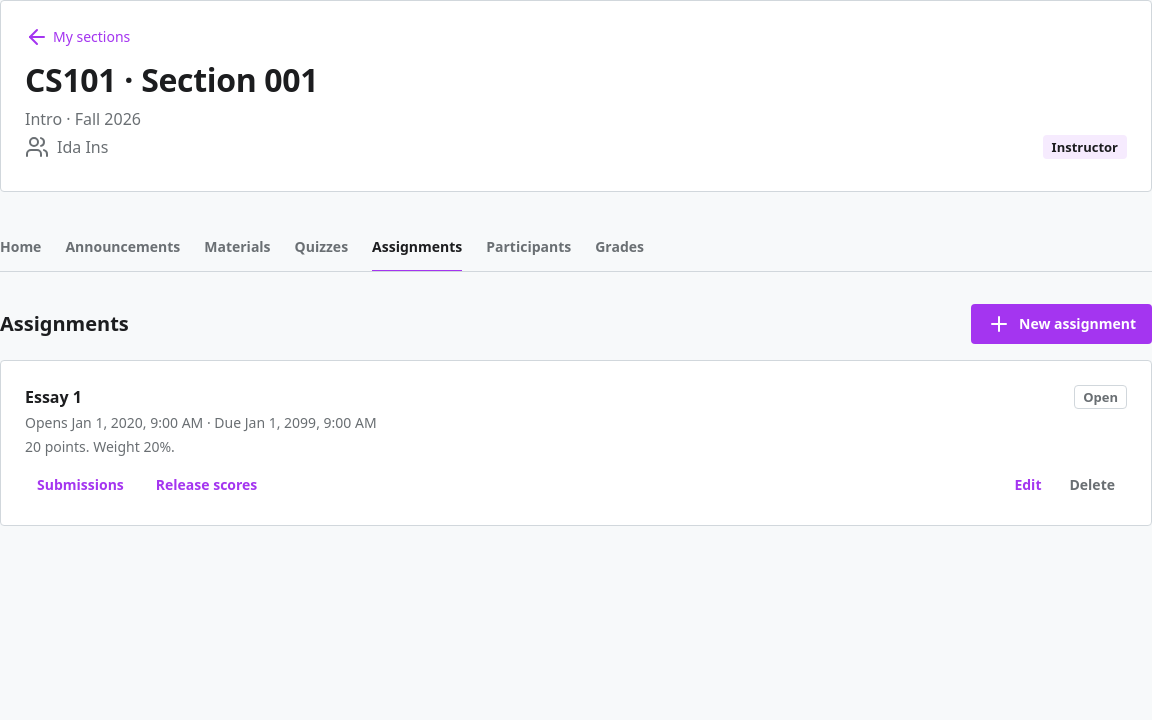
Test case: Release asks first and PATCHes published true
The image size is (1152, 720).
What coordinates should you click on to do the following:
click the button with aria-label "Release scores for Essay 1"
I would click on:
 (207, 485)
Its box is [144,469,269,501].
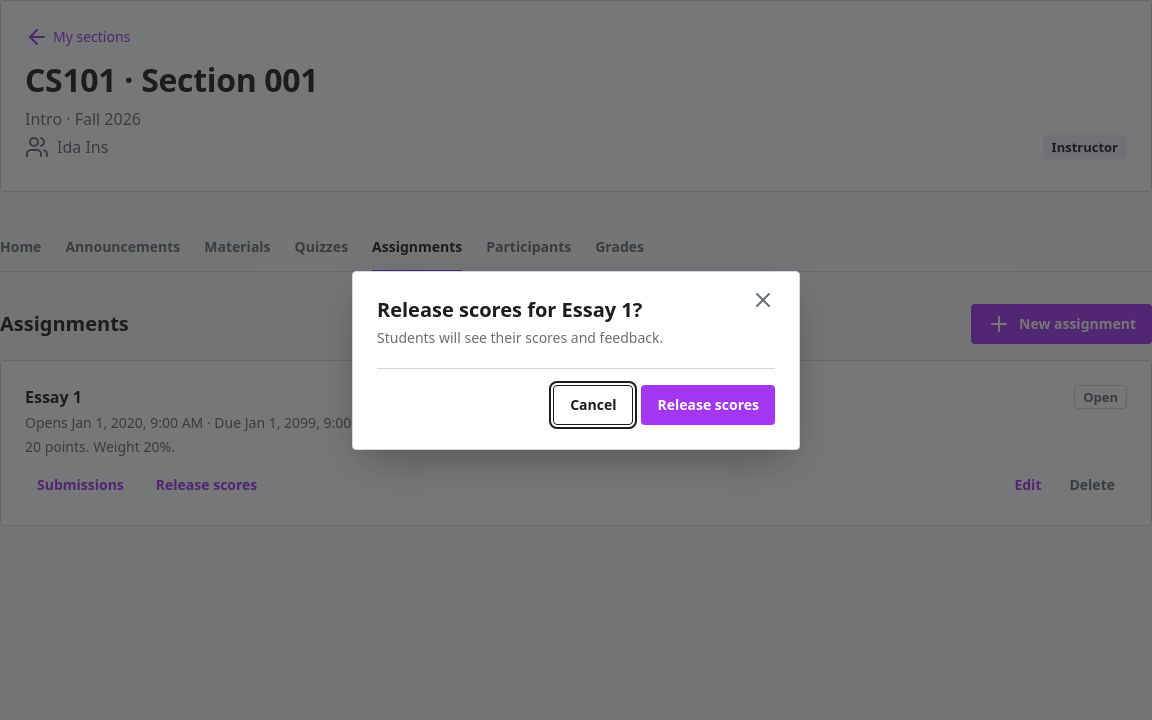
Result: the dialog "Release scores for Essay 1?" is shown at [352,270,800,450]
What coordinates should you click on to do the following:
click the button "Release scores" below "Release scores for Essay 1?"
I would click on:
 (708, 404)
Its box is [642,384,775,424].
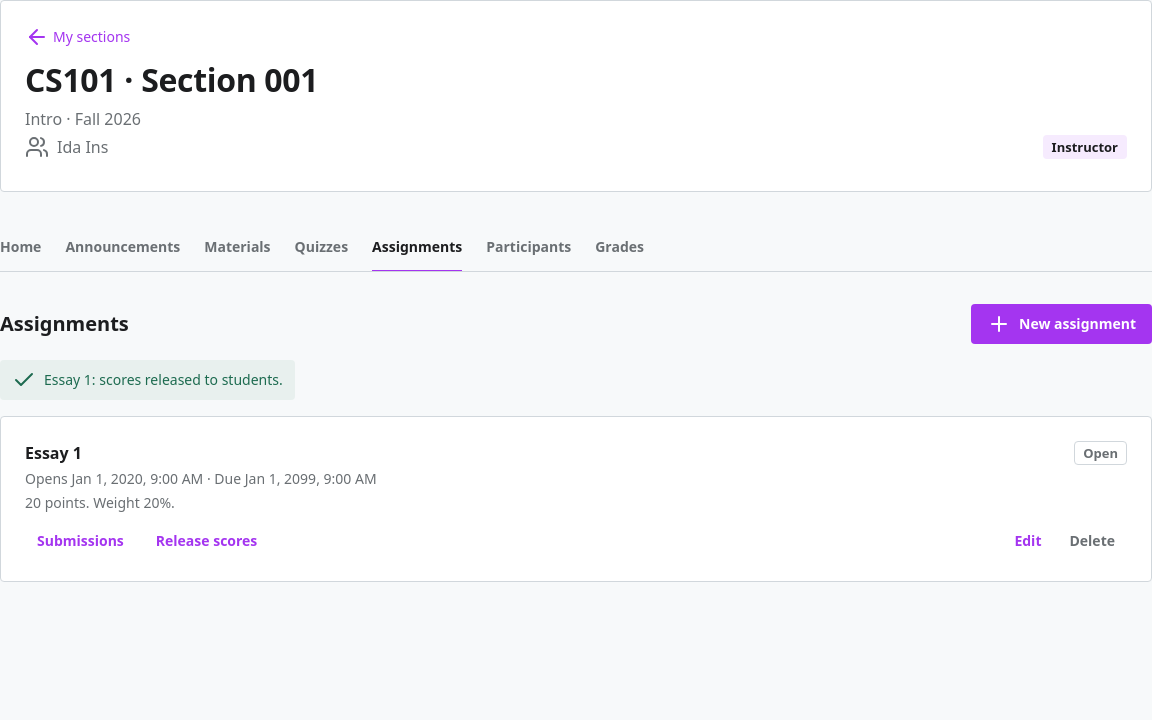
Result: the text "Essay 1: scores released to students." is shown at [0,360,295,400]
